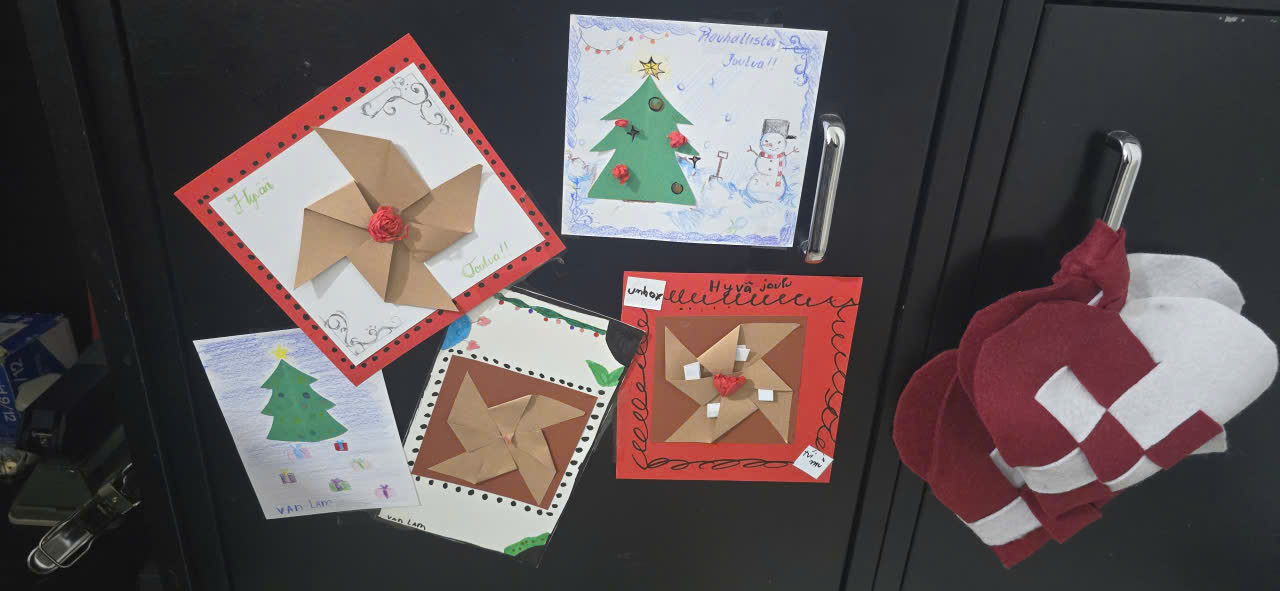paper: (173, 7, 870, 563)
